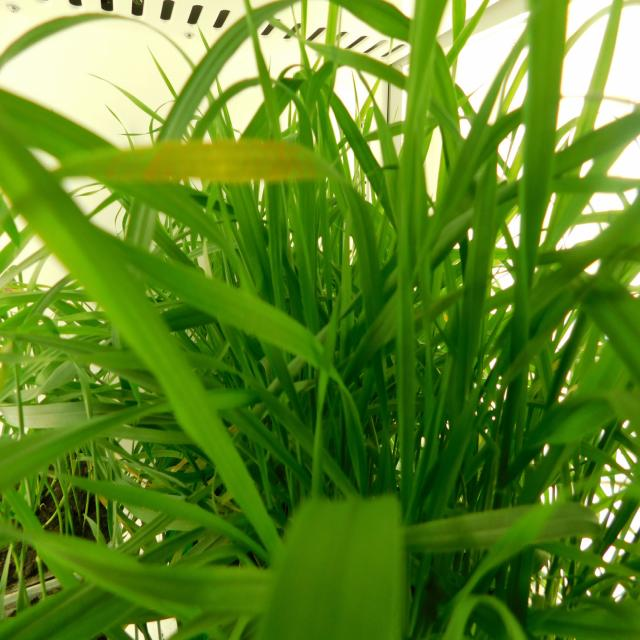wheat-yellowrust: (78, 141, 331, 182)
